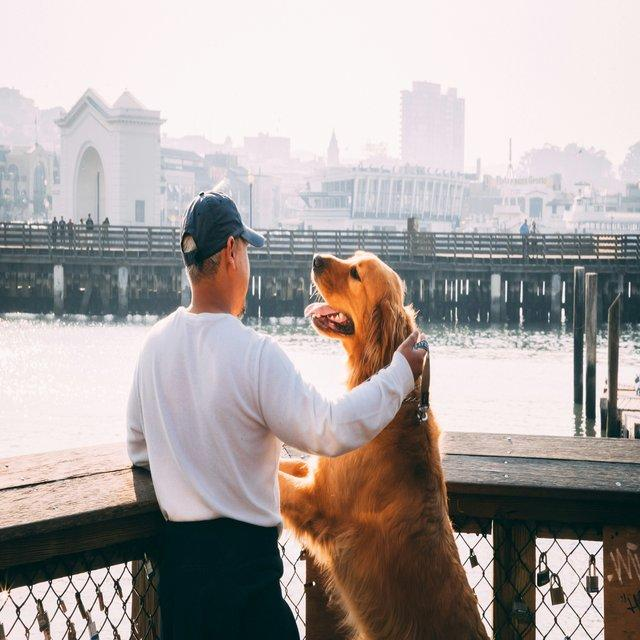retriever: (276, 248, 490, 638)
